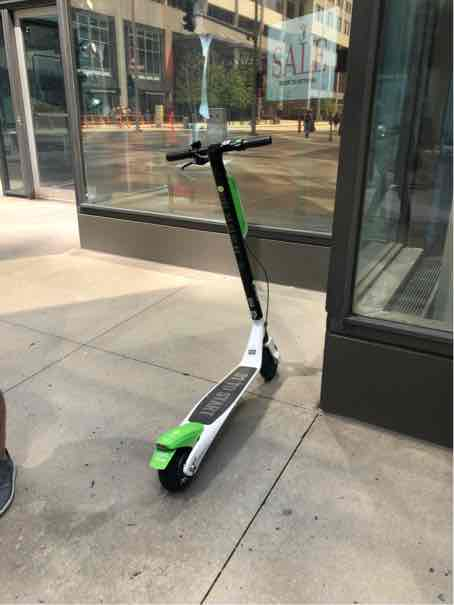scooter: (141, 133, 293, 498)
